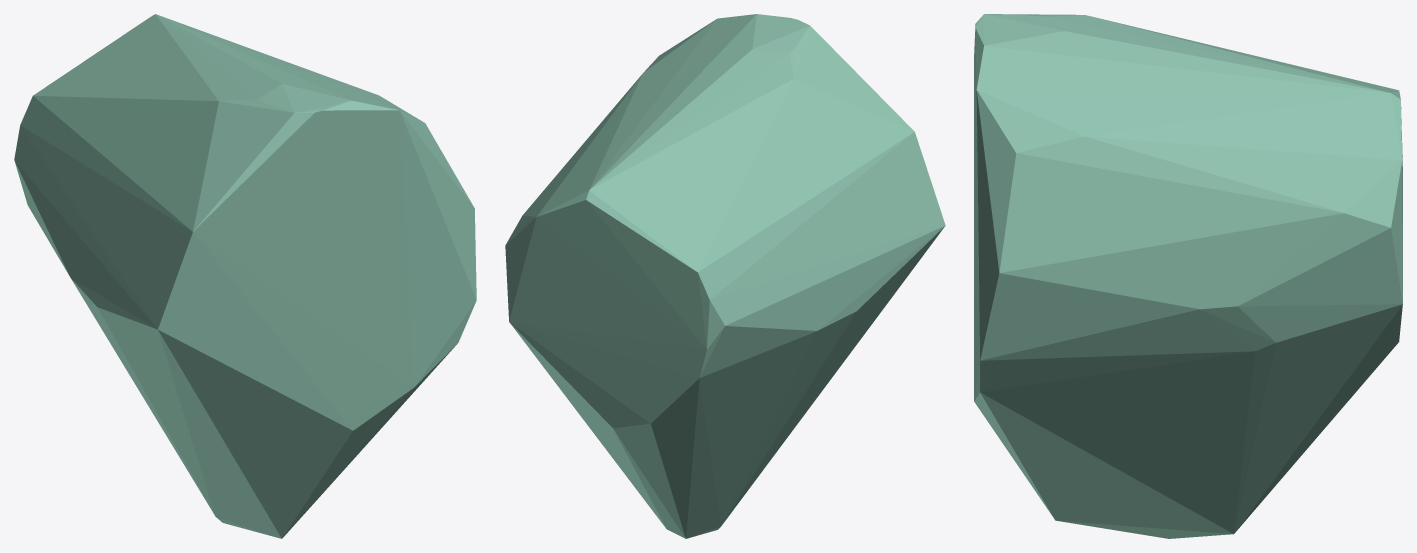
The model's file is kitchenware_mug_i01.glb.
The picture shows the model from 3 angles, left to right: view 1: azimuth 30°, elevation 25°; view 2: azimuth 150°, elevation 25°; view 3: azimuth 270°, elevation 25°; orthographic projection. The views are drawn at different scales.
Parts seen in each view (by area): view 1: geometry_0; view 2: geometry_0; view 3: geometry_0.
Part boxes in pixels (x1=…): geometry_0: x1=14, y1=14, x2=476, y2=538; geometry_0: x1=505, y1=14, x2=945, y2=538; geometry_0: x1=974, y1=14, x2=1402, y2=538.
Bounding box in the file's own units: 0.3414 × 0.4737 × 0.3553.
